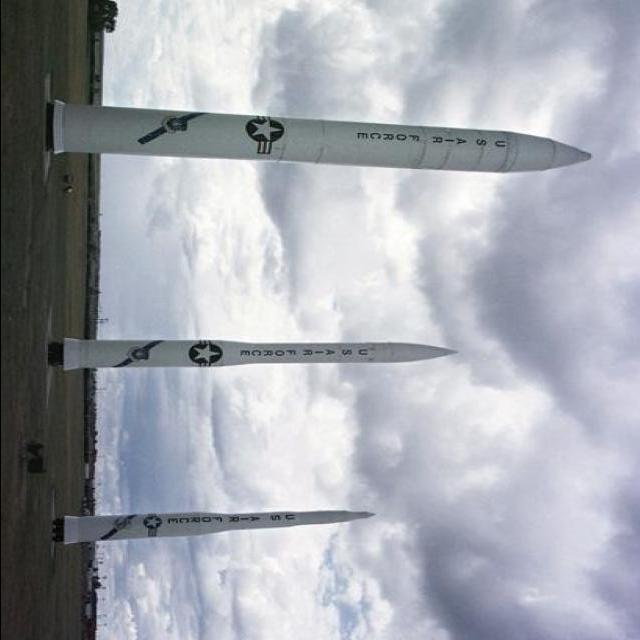missile: (43, 123, 609, 179), (51, 327, 455, 383), (51, 504, 375, 542)
